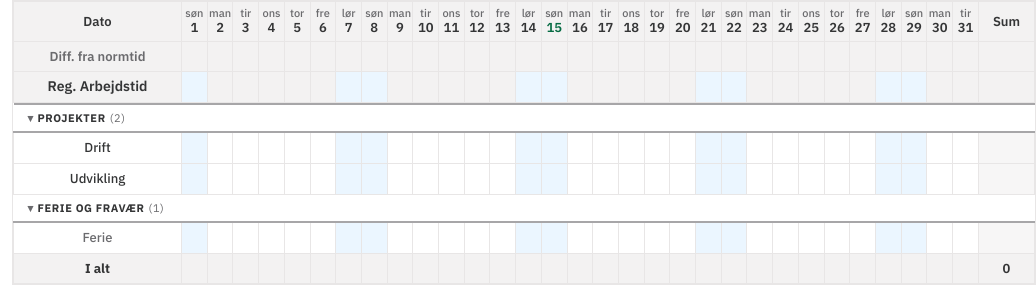
Scenario: SkemaGrid — editable cells › formats to 1 decimal with a Danish comma on blur
In the field named "Drift dag 2": coordinates (220, 148) [208, 133, 232, 163], type "7,456"
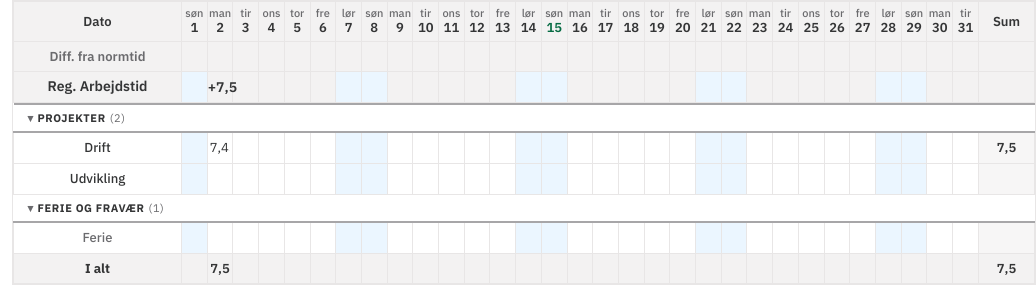
Leave the field named "Drift dag 2", box [208, 133, 232, 163]
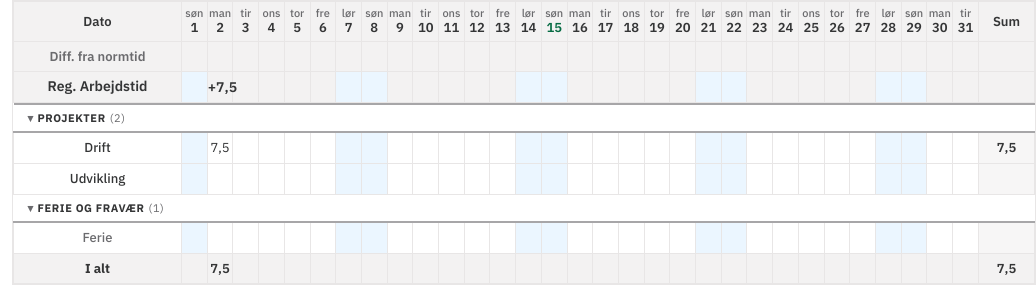
Now the field named "Drift dag 2" holds "7,5", box [208, 133, 232, 163]
